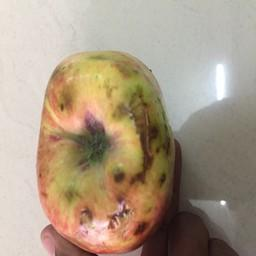Bad_apple: (32, 45, 178, 255)
